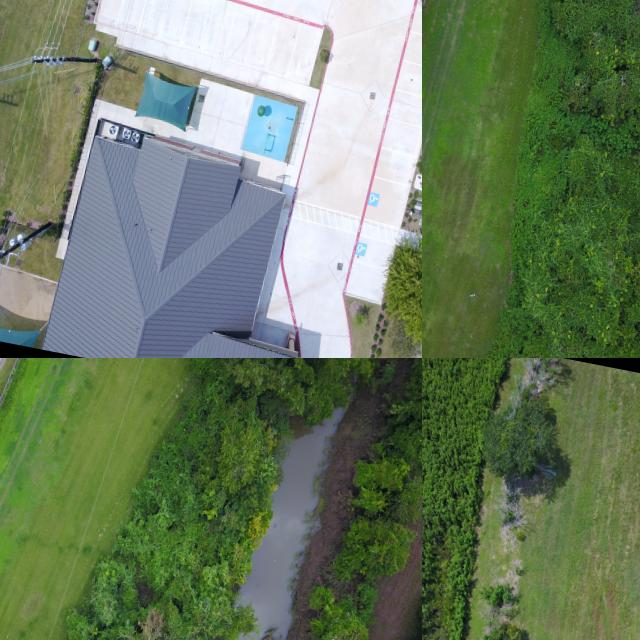fire: (239, 408, 344, 640)
